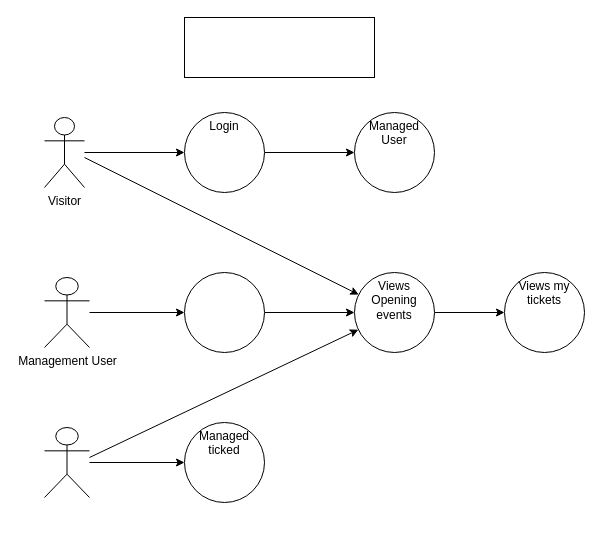
Image size: 602x536. Some labels were removed from this diagram. Here are the shapes that lost their labels. From the top down, the box of each, then its label:
(184, 16, 374, 78): Events Management Portal
(184, 272, 264, 352): Hacked Hacking and payment
(44, 426, 90, 498): Admin
